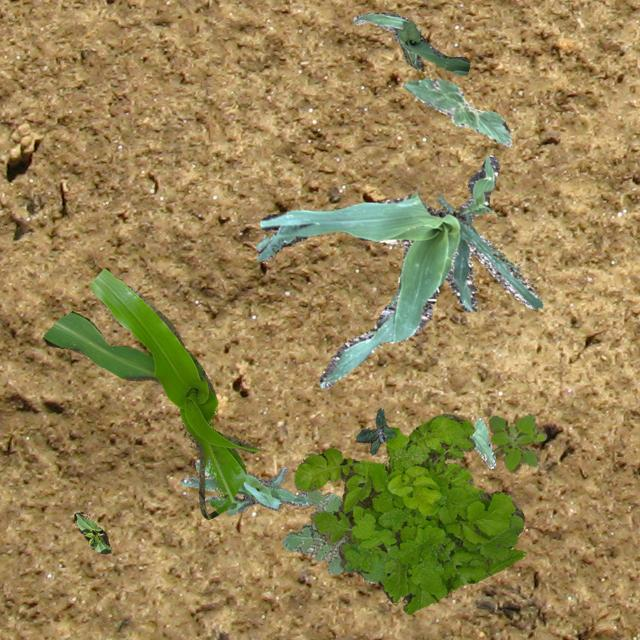crop: (254, 154, 542, 388), (42, 266, 260, 518), (404, 76, 511, 146), (180, 458, 312, 514), (352, 12, 468, 74), (74, 512, 110, 554), (468, 417, 494, 468)
weed: (294, 412, 524, 614), (281, 488, 373, 582), (488, 412, 546, 472), (354, 406, 396, 454)
